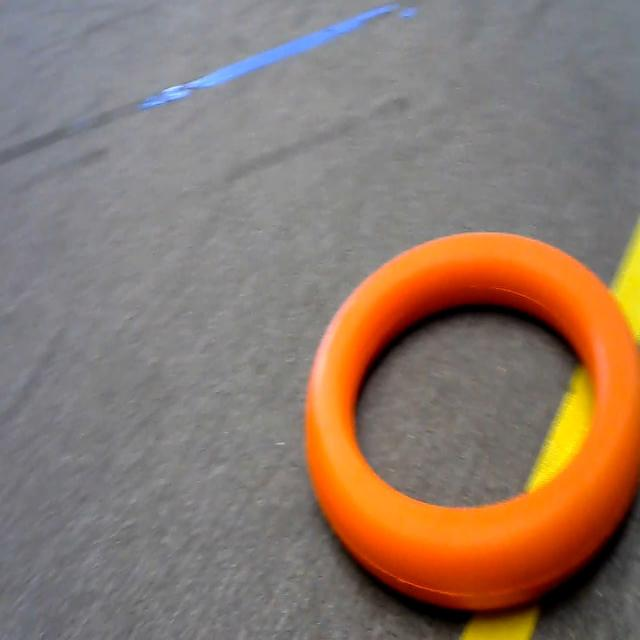note: (297, 229, 640, 622)
